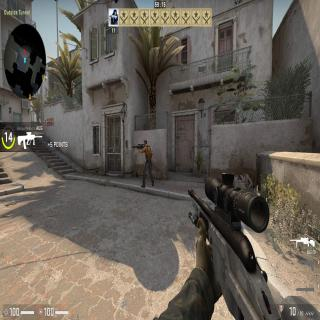T-Body: (138, 139, 154, 188)
T-Head: (142, 140, 148, 146)
